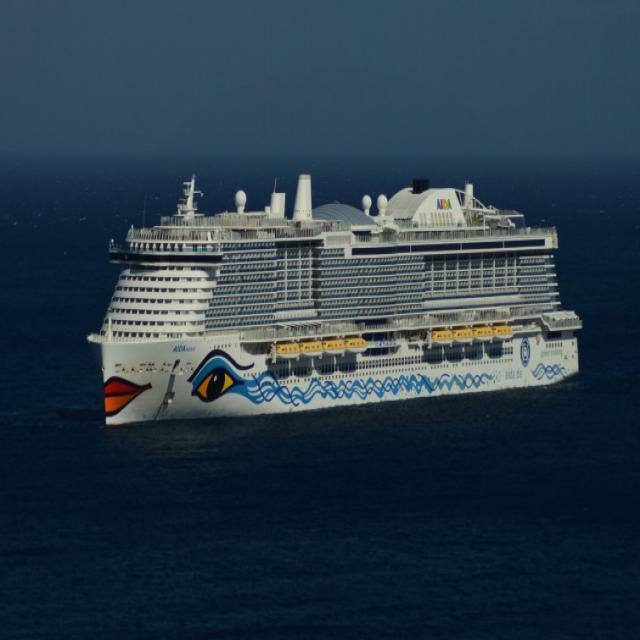cruises: (81, 160, 586, 438)
